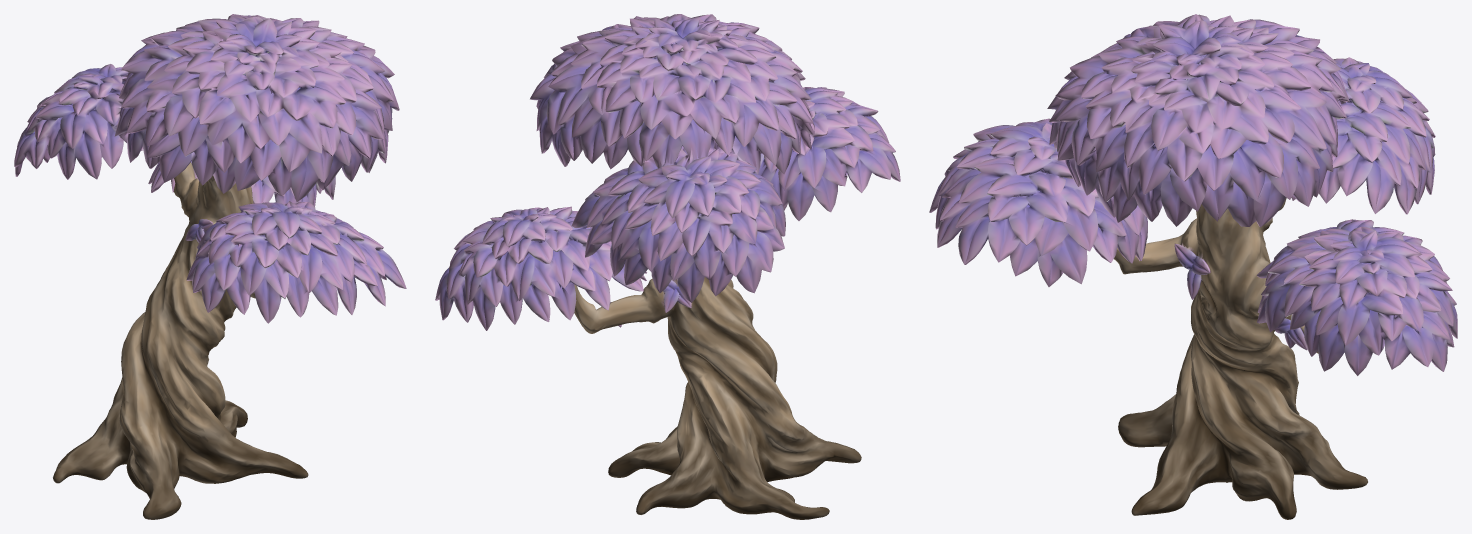
File: SM_pinkTree.fbx
The picture shows the model from 3 angles, left to right: view 1: azimuth 30°, elevation 25°; view 2: azimuth 150°, elevation 25°; view 3: azimuth 270°, elevation 25°; orthographic projection. The views are drawn at different scales.
Visible parts, largest first — view 1: SM_pinkTree; view 2: SM_pinkTree; view 3: SM_pinkTree.
Boxes of the visible parts, x1,y1,x2,y2 form: SM_pinkTree: (14, 14, 406, 519); SM_pinkTree: (435, 14, 900, 519); SM_pinkTree: (929, 14, 1457, 519).
Size of the model in its own units: 4.88 by 6.25 by 6.28.
